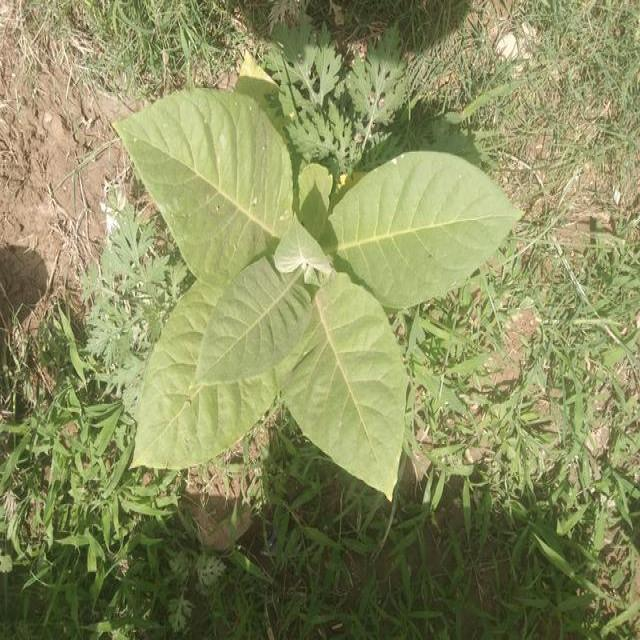crop: (116, 104, 516, 503)
